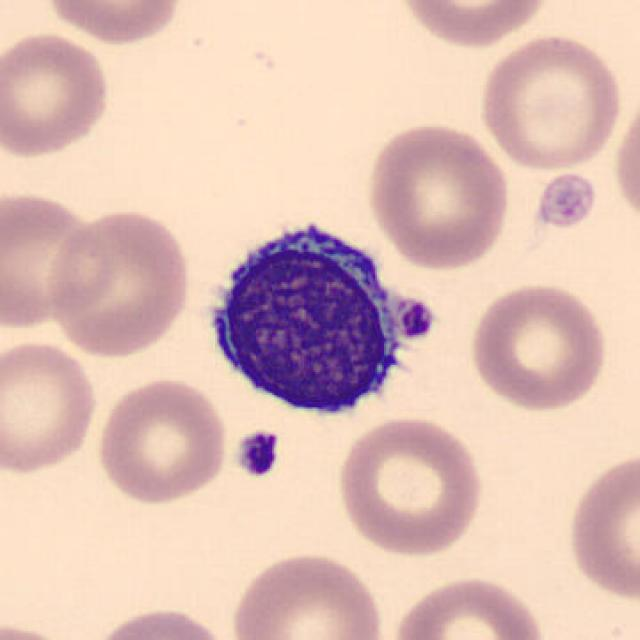Lymphocyte: (192, 204, 436, 425)
Platelets: (532, 171, 599, 233), (233, 428, 283, 479), (395, 298, 439, 344)
RBC: (44, 202, 194, 360), (362, 118, 514, 272), (333, 412, 487, 559), (474, 30, 626, 173), (464, 278, 612, 414), (93, 374, 231, 508), (0, 185, 116, 333), (0, 28, 114, 162), (226, 548, 389, 640), (0, 337, 100, 478), (562, 446, 638, 605), (390, 573, 550, 640), (391, 0, 553, 51), (39, 0, 187, 48), (85, 603, 235, 640), (610, 83, 640, 231), (0, 619, 87, 640)
